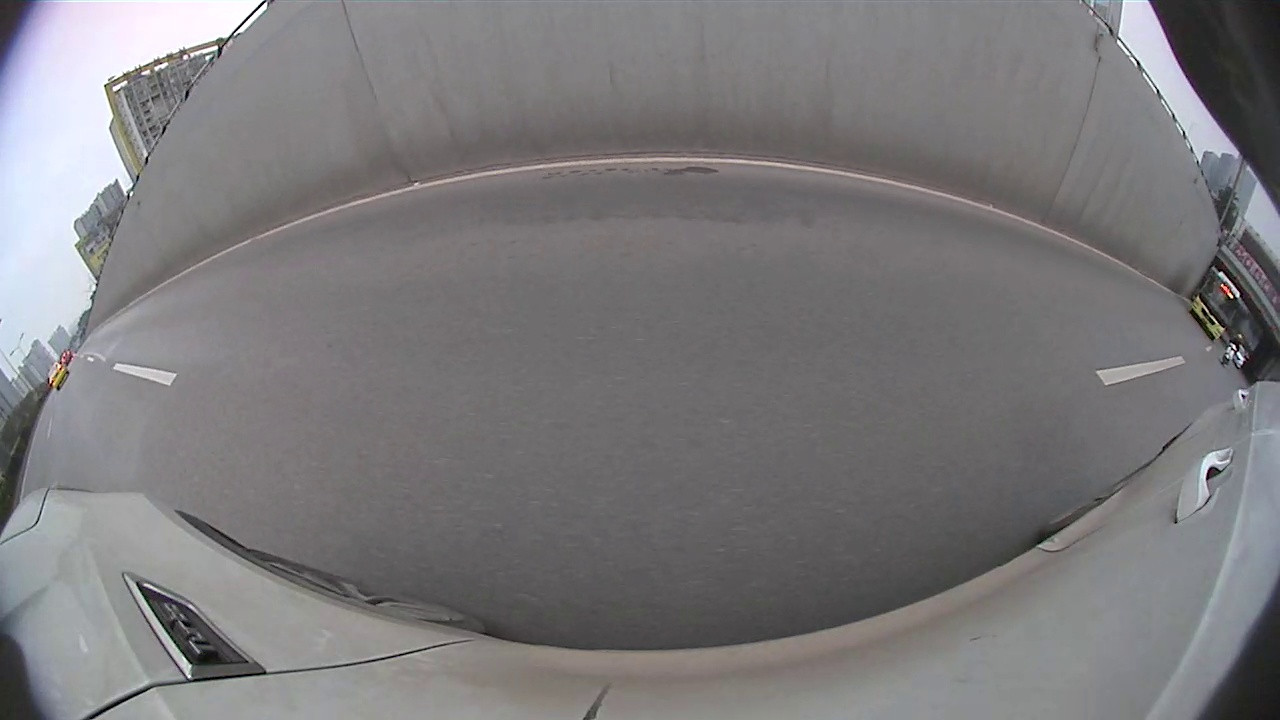bus: (1190, 265, 1243, 342)
car: (45, 361, 71, 388)
